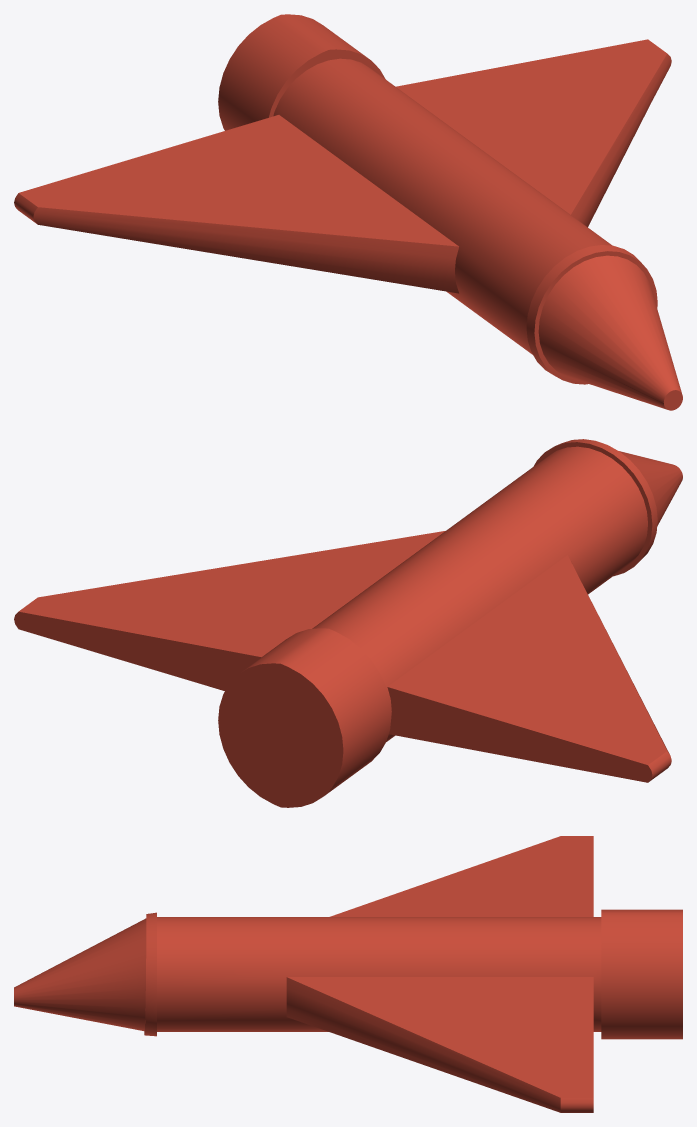
File: SmallShip.fbx
3 views of the same model, one above another, from view 1: azimuth 30°, elevation 25°; view 2: azimuth 150°, elevation 25°; view 3: azimuth 270°, elevation 25° (orthographic). The views are drawn at different scales.
Parts seen in each view (by area): view 1: SmallShip; view 2: SmallShip; view 3: SmallShip.
Boxes of the visible parts, <box> form: SmallShip: <box>14,14,682,410</box>; SmallShip: <box>14,439,682,807</box>; SmallShip: <box>14,836,682,1112</box>.
Bounding box in the file's own units: 3265 × 702 × 3477.
